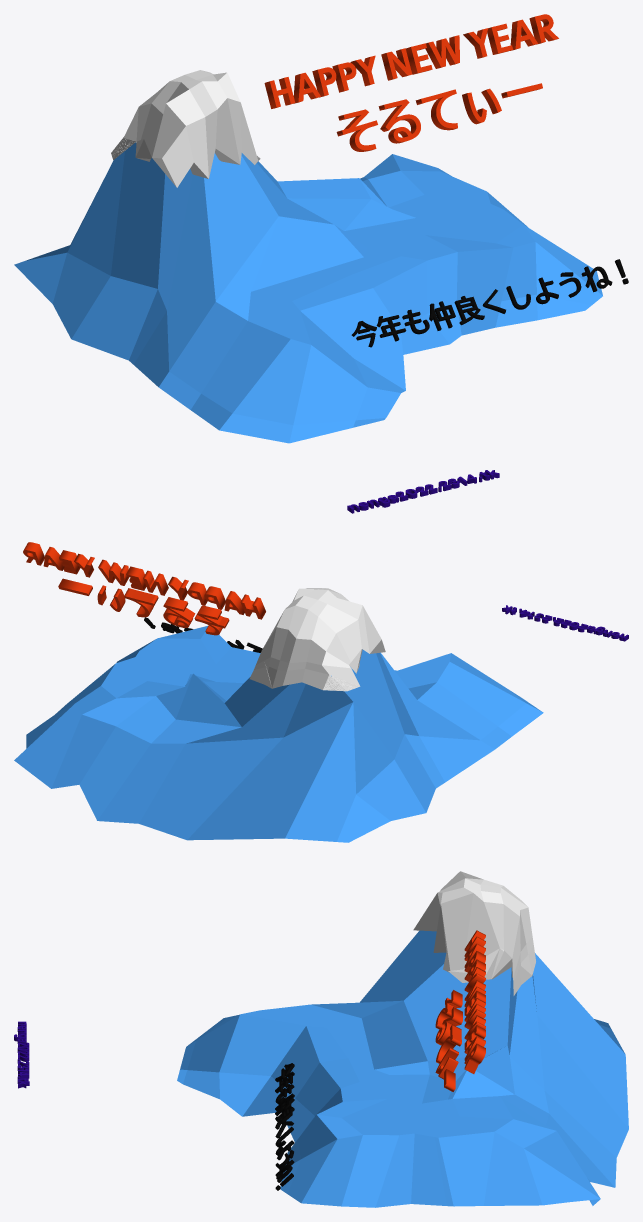
The model's file is hoge.glb.
The picture shows the model from 3 angles, top to bottom: view 1: azimuth 30°, elevation 25°; view 2: azimuth 150°, elevation 25°; view 3: azimuth 270°, elevation 25°; orthographic projection. The views are drawn at different scales.
Parts seen in each view (by area): view 1: huji, huji_top, hny, message, name, logo; view 2: huji, huji_top, hny, name, logo, message; view 3: huji, huji_top, hny, name, message, logo.
Part boxes in pixels (x1,y1,x2,y2): huji: (14, 142, 602, 443); huji_top: (111, 70, 260, 187); hny: (264, 14, 558, 108); message: (351, 259, 628, 347); name: (336, 83, 542, 151); logo: (347, 470, 499, 513); huji: (14, 626, 543, 842); huji_top: (249, 588, 385, 691); hny: (23, 542, 265, 619); name: (58, 578, 229, 635); logo: (502, 605, 628, 641); message: (144, 617, 262, 652); huji: (177, 930, 628, 1207); huji_top: (413, 871, 535, 995); hny: (464, 930, 485, 1073); name: (435, 990, 462, 1091); message: (275, 1063, 294, 1190); logo: (14, 1021, 29, 1088).
Size of the model in its own units: 46.91 by 24.27 by 59.32.
